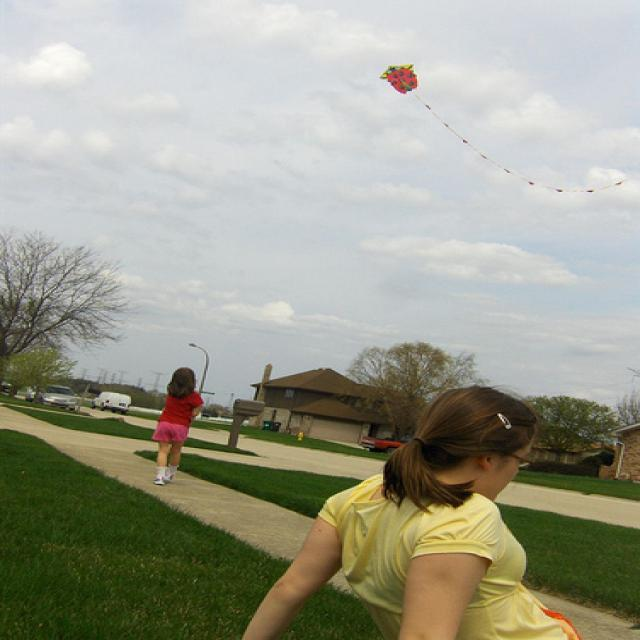Vehicle: (41, 386, 76, 412), (90, 391, 130, 413)
